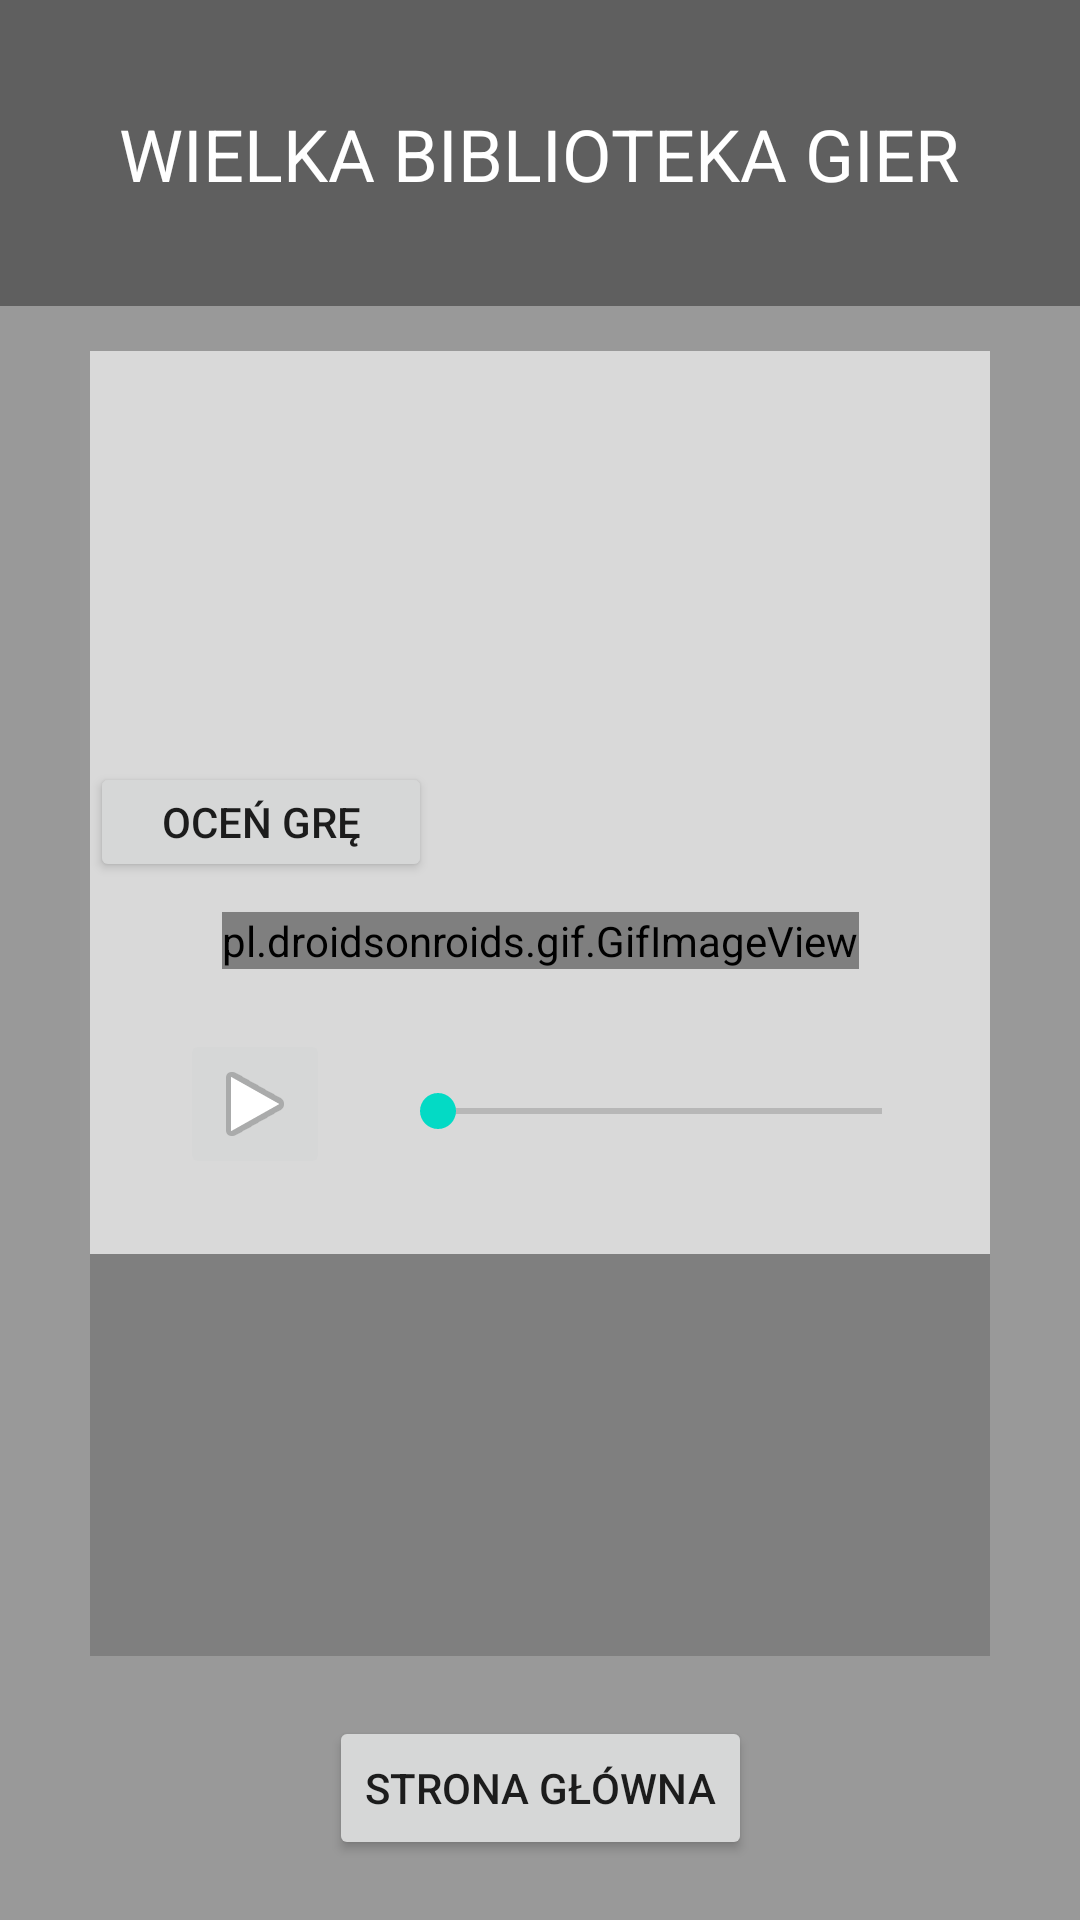

Icon click points for this 1080×1920 phone screenshot, format (x=x, y=y):
play: (x=255, y=1104)
